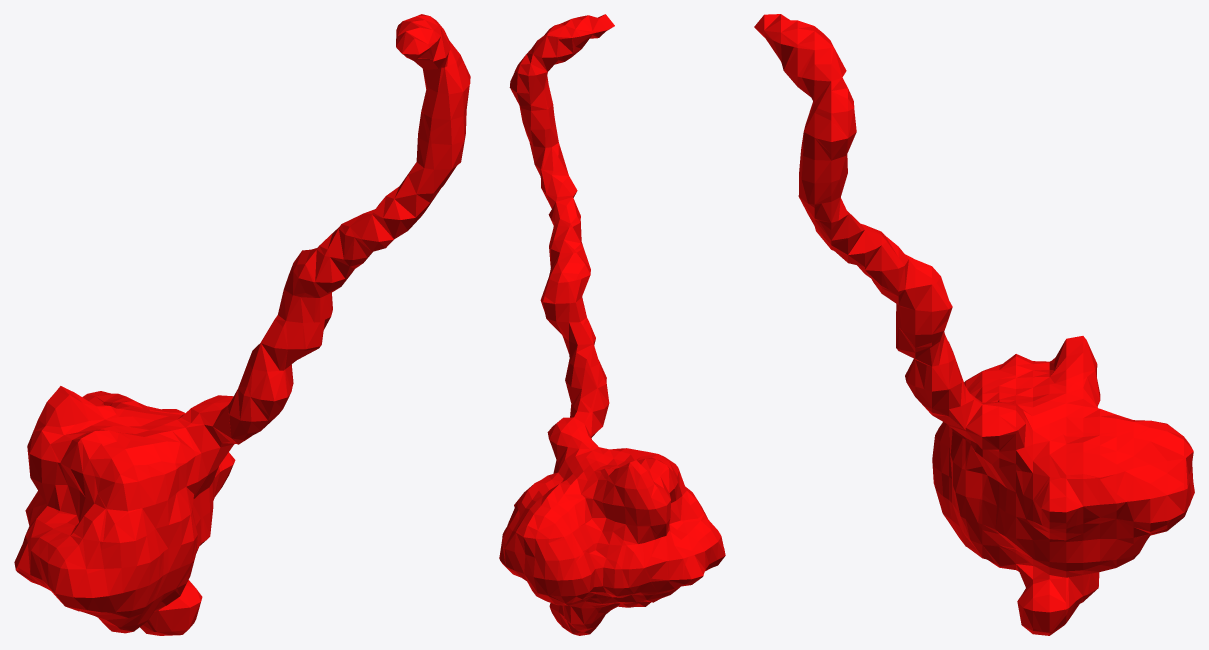
Rendered from ftsZ_coarse.dae.
The picture shows the model from 3 angles, left to right: view 1: azimuth 30°, elevation 25°; view 2: azimuth 150°, elevation 25°; view 3: azimuth 270°, elevation 25°; orthographic projection. The views are drawn at different scales.
Visible parts, largest first — view 1: ftsZ; view 2: ftsZ; view 3: ftsZ.
Boxes of the visible parts, left/top/right/bottom form: ftsZ: left=14, top=14, right=470, bottom=635; ftsZ: left=499, top=14, right=725, bottom=635; ftsZ: left=754, top=14, right=1194, bottom=635.
Bounding box in the file's own units: 88.12 × 162 × 96.2.
